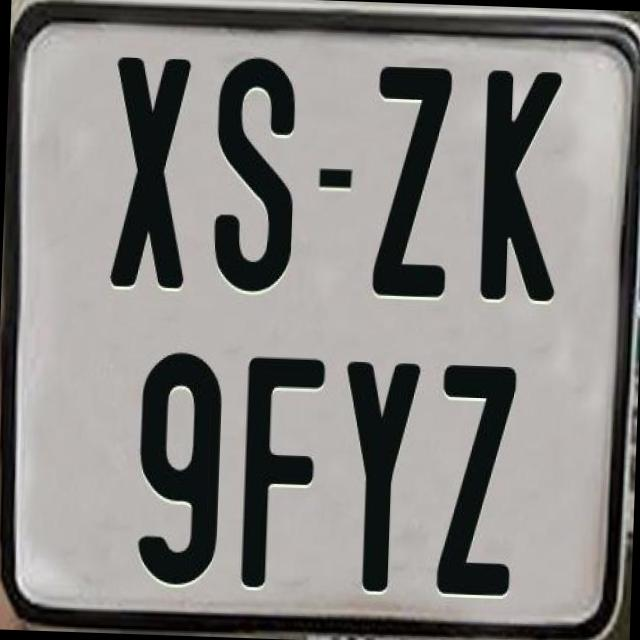9: (134, 350, 222, 592)
F: (240, 352, 330, 592)
K: (480, 68, 562, 301)
S: (208, 50, 300, 287)
X: (109, 52, 192, 288)
Y: (338, 360, 428, 600)
Z: (371, 61, 458, 300), (432, 362, 516, 599)
